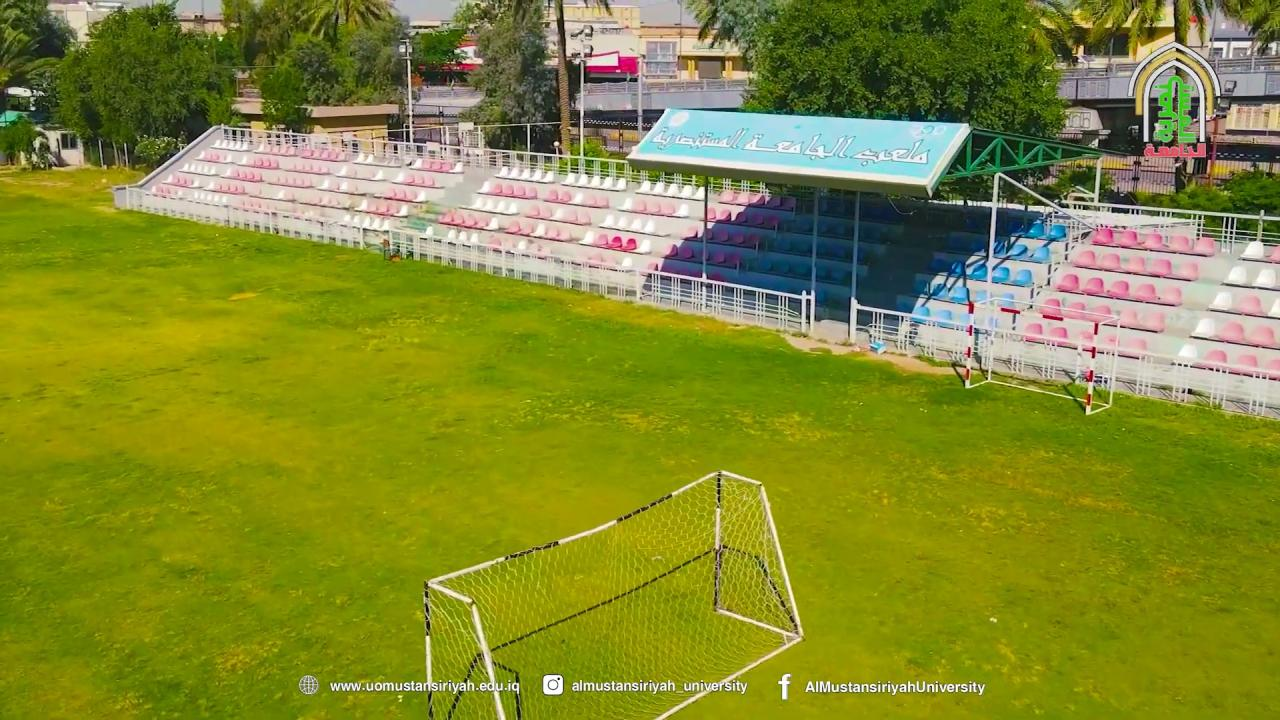person: (550, 139, 562, 157)
tree: (677, 0, 1071, 139), (52, 1, 228, 170), (448, 0, 612, 160), (218, 0, 399, 132), (1074, 0, 1279, 60), (545, 1, 612, 160), (0, 0, 75, 94), (284, 0, 394, 47), (550, 0, 572, 157), (1220, 0, 1280, 56), (0, 114, 42, 166)
